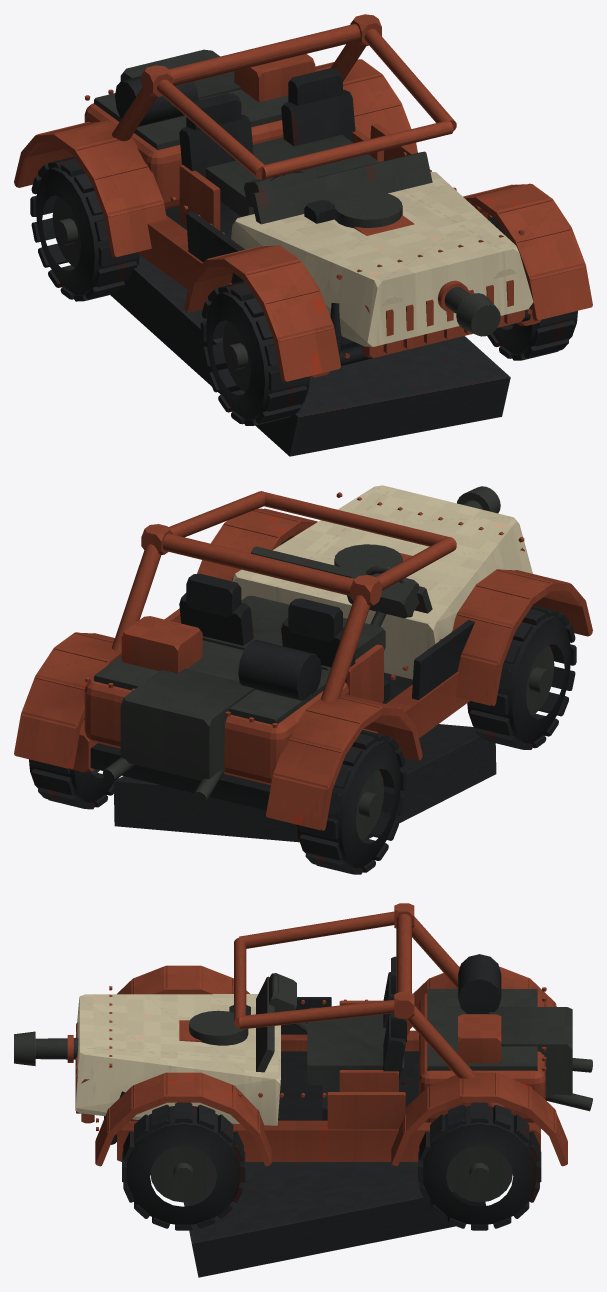
The model's file is buggy.glb.
3 views of the same model, one above another, from view 1: azimuth 30°, elevation 25°; view 2: azimuth 150°, elevation 25°; view 3: azimuth 270°, elevation 25° (orthographic). The views are drawn at different scales.
Parts seen in each view (by area): view 1: buggy_body, wreckage_chassis, wheel_front_left, wheel_rear_left, wheel_front_right, turret_yaw_mesh, turret_pitch; view 2: buggy_body, wreckage_chassis, wheel_rear_left, wheel_front_left, wheel_rear_right, turret_yaw_mesh, turret_pitch; view 3: buggy_body, wreckage_chassis, wheel_front_right, wheel_rear_right, turret_pitch, turret_yaw_mesh.
Boxes of the visible parts, x1,y1,x2,y2 form: buggy_body: [14, 14, 592, 381]; wreckage_chassis: [110, 255, 510, 456]; wheel_front_left: [200, 281, 309, 425]; wheel_rear_left: [30, 156, 139, 301]; wheel_front_right: [487, 233, 577, 360]; turret_yaw_mesh: [304, 191, 402, 228]; turret_pitch: [354, 215, 500, 336]; buggy_body: [14, 485, 592, 830]; wreckage_chassis: [113, 724, 496, 842]; wheel_rear_left: [297, 730, 406, 874]; wheel_front_left: [467, 605, 576, 749]; wheel_rear_right: [29, 718, 118, 809]; turret_yaw_mesh: [334, 544, 402, 570]; turret_pitch: [400, 486, 500, 561]; buggy_body: [75, 903, 592, 1166]; wreckage_chassis: [183, 1162, 485, 1277]; wheel_front_right: [122, 1103, 245, 1230]; wheel_rear_right: [418, 1103, 541, 1230]; turret_pitch: [14, 1020, 201, 1066]; turret_yaw_mesh: [189, 1005, 250, 1045].
Size of what is drawn, in the model's own units: 2.35 by 2.25 by 4.3.
Materials: 1 (1 with a texture image).
